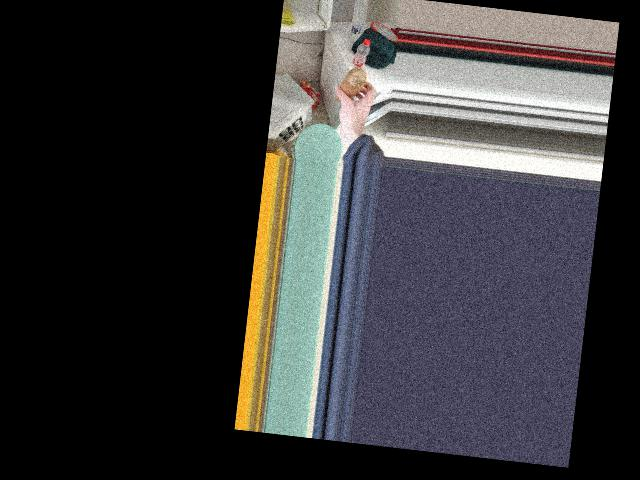sweet_potato: (332, 66, 368, 109)
